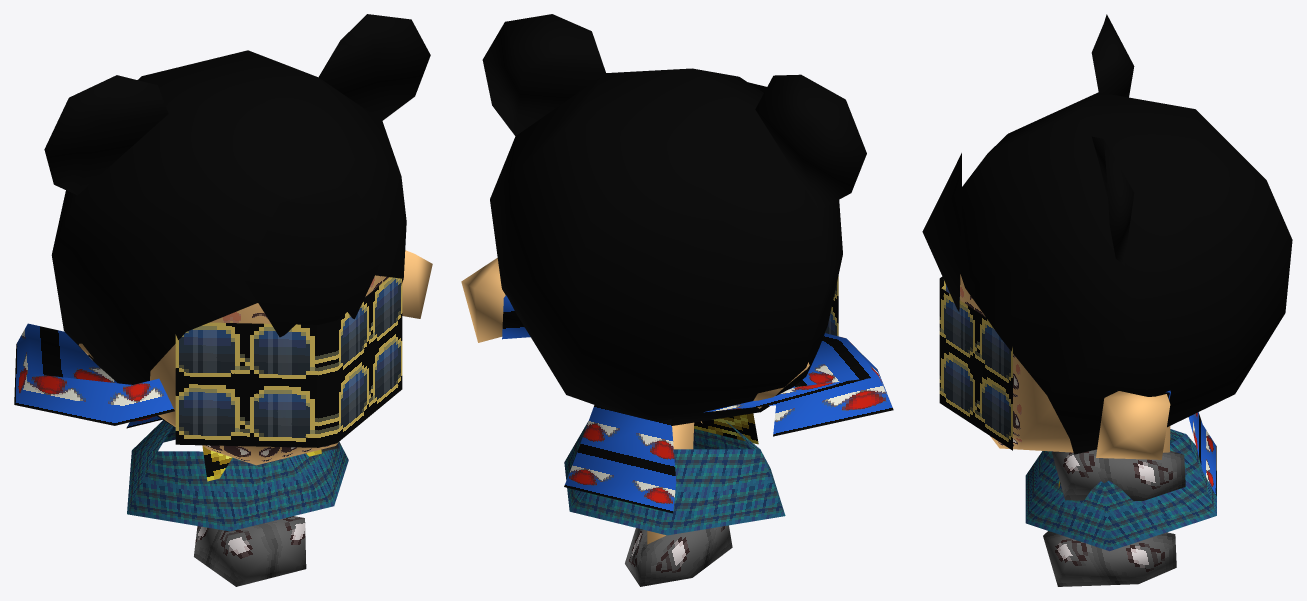
The picture shows the model from 3 angles, left to right: view 1: azimuth 30°, elevation 25°; view 2: azimuth 150°, elevation 25°; view 3: azimuth 270°, elevation 25°; orthographic projection. The views are drawn at different scales.
Visible parts, largest first — view 1: pmd44_00_03; view 2: pmd44_00_03; view 3: pmd44_00_03.
Boxes of the visible parts, left/top/right/bottom form: pmd44_00_03: left=14, top=14, right=432, bottom=586; pmd44_00_03: left=461, top=14, right=893, bottom=586; pmd44_00_03: left=922, top=14, right=1292, bottom=586.
Bounding box in the file's own units: 1.23 × 1.42 × 0.9788.
8 materials, 8 textured.
